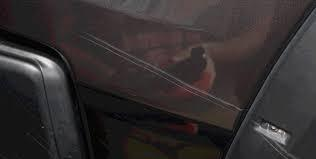scratch: (75, 26, 249, 120)
